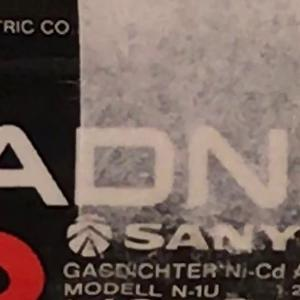keyword: (218, 255, 294, 280)
